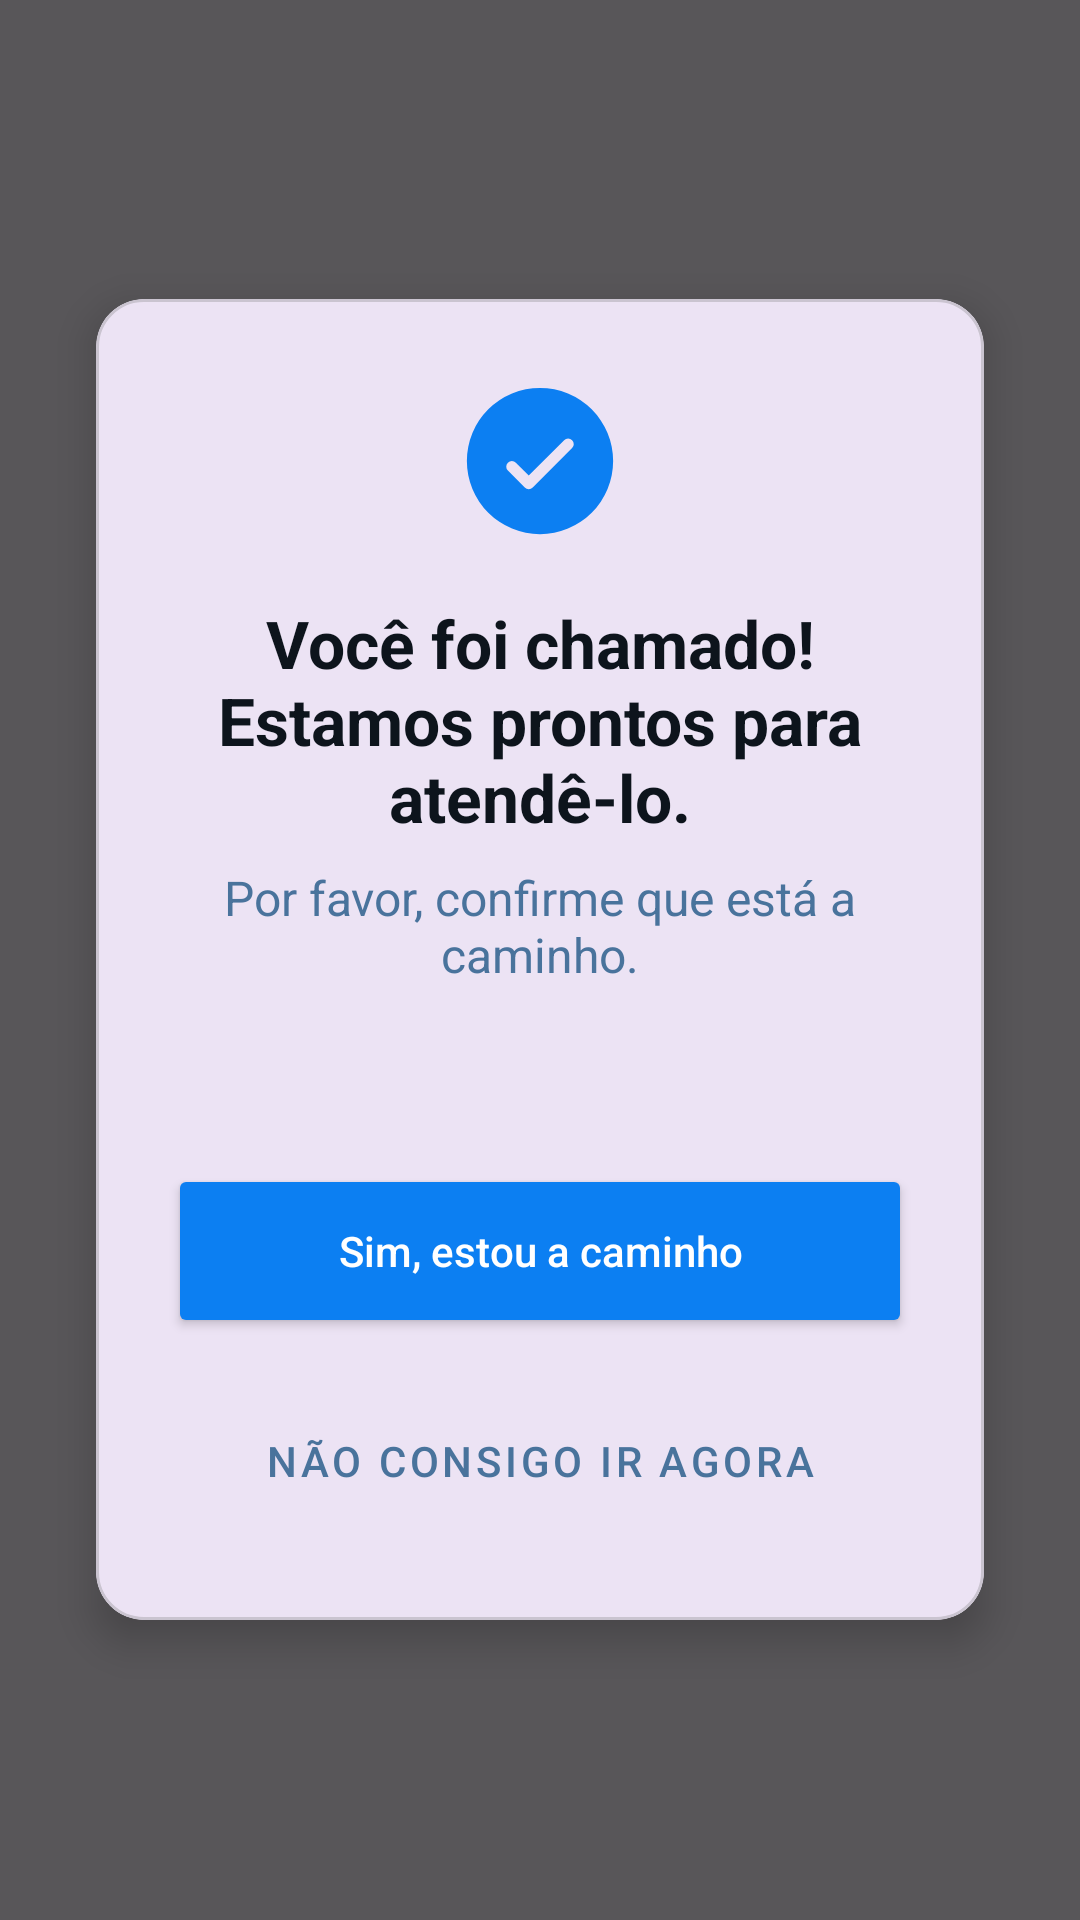

Icons on this 1080px×1920px Android screen, each with its box as (x1, y1, x2, y2):
Ícone de check: (466, 388, 613, 535)
